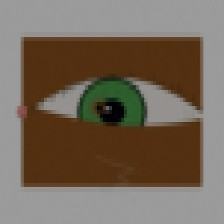foreign_body_visible: (77, 90, 122, 126)
